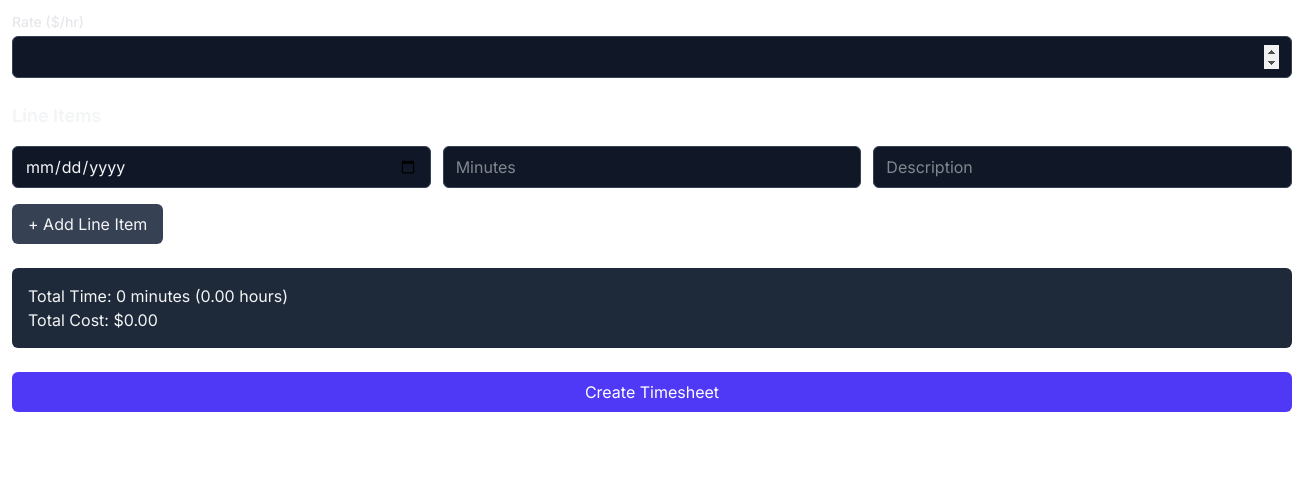
Test: TimesheetForm › updates totals after removing a line item
The width and height of the screenshot is (1304, 487).
// Enter rate
In the number field labelled "Rate ($/hr)": (652, 57) 12,36 -> 1292,78, type "100"
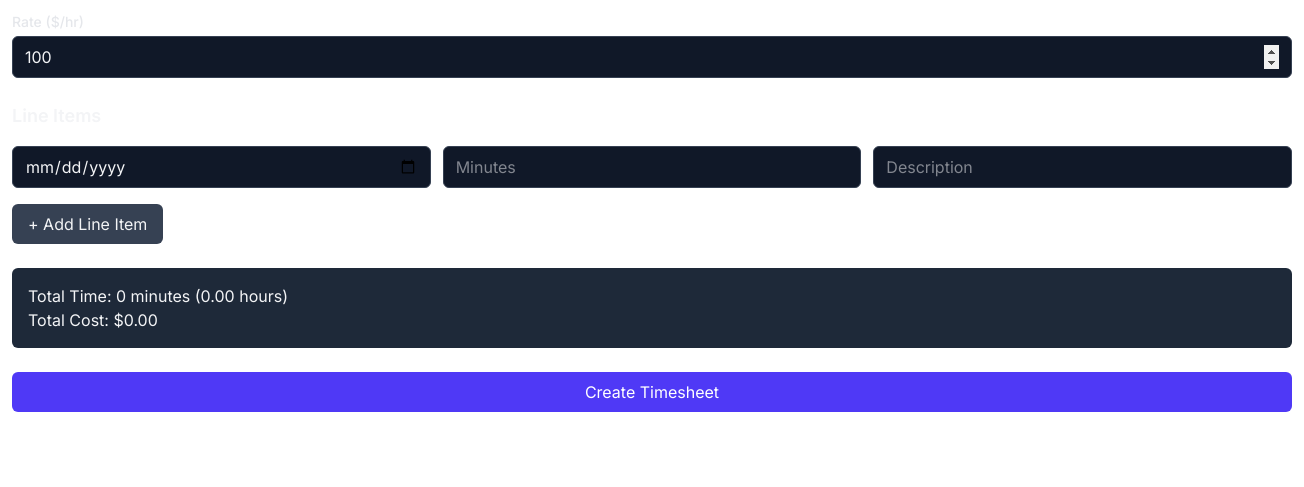
// First line item: 60 minutes
In the number field with placeholder "Minutes": (652, 167) 443,146 -> 861,188, type "60"
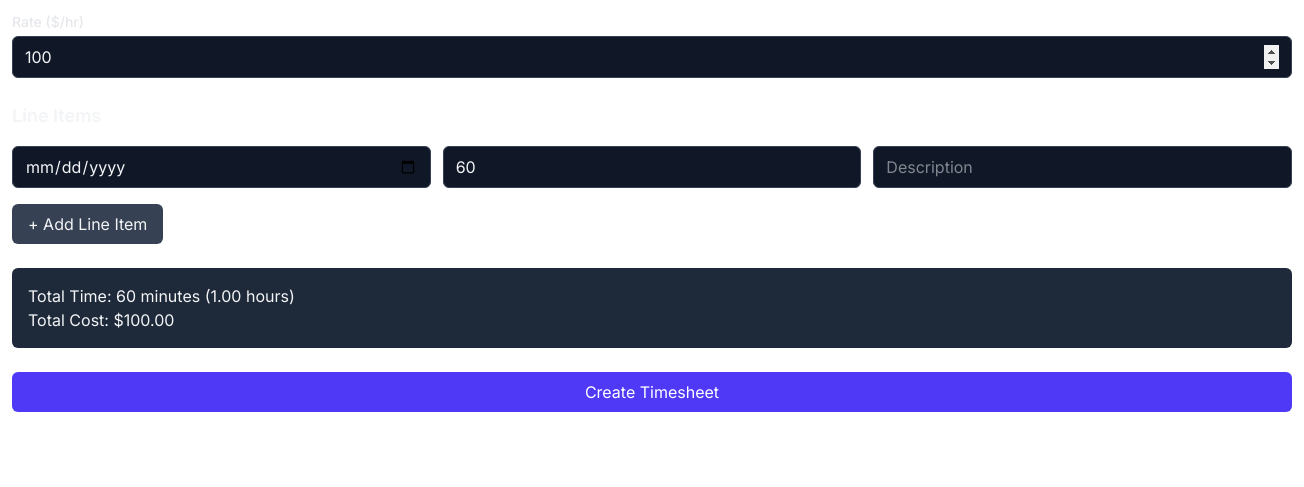
// Add another line item
Click the button "+ Add Line Item": (88, 224) 12,204 -> 163,244
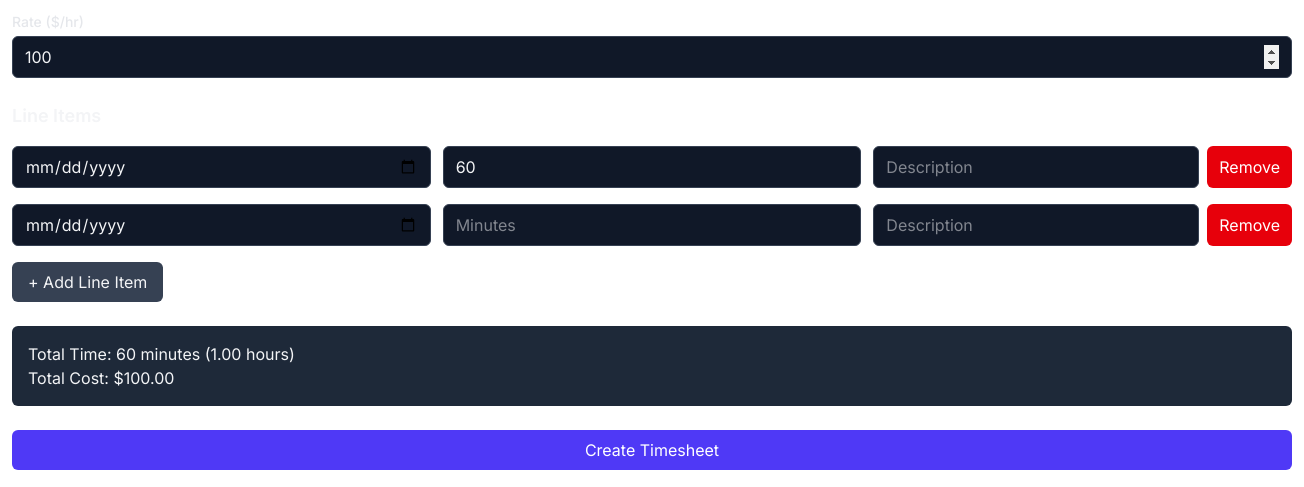
// Second line item: 120 minutes
In the number field with placeholder "Minutes": (652, 225) 443,204 -> 861,246, type "120"
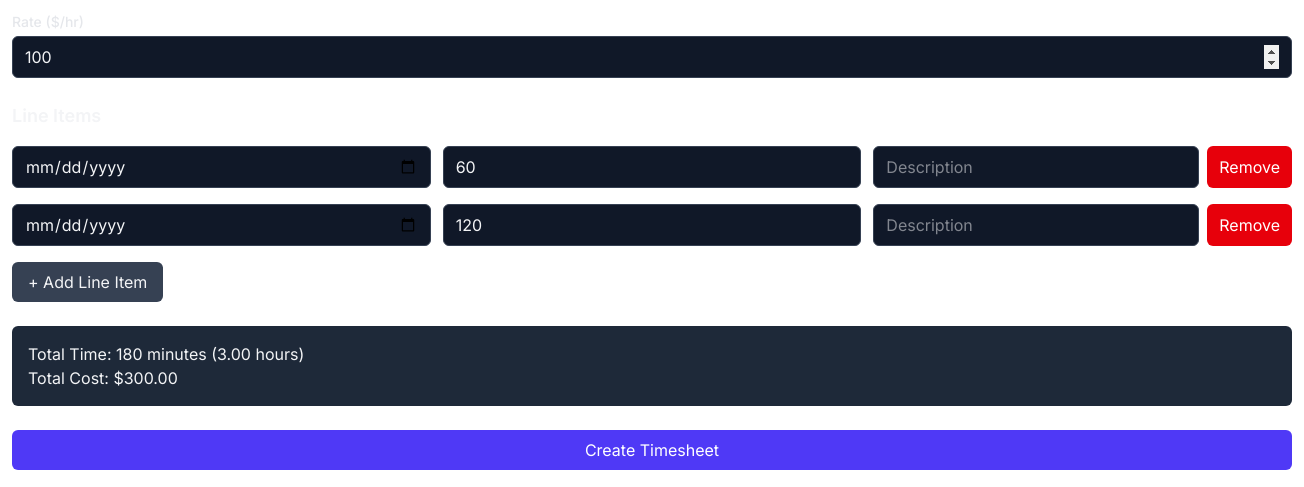
Expected: the text "Total Time: 180 minutes (3.00 hours)" is shown, 28,344 -> 304,364
Expected: the text "Total Cost: $300.00" is shown, 28,368 -> 178,388
// Remove the second line item
Click the 2nd button "Remove": (1250, 225) 1207,204 -> 1292,246
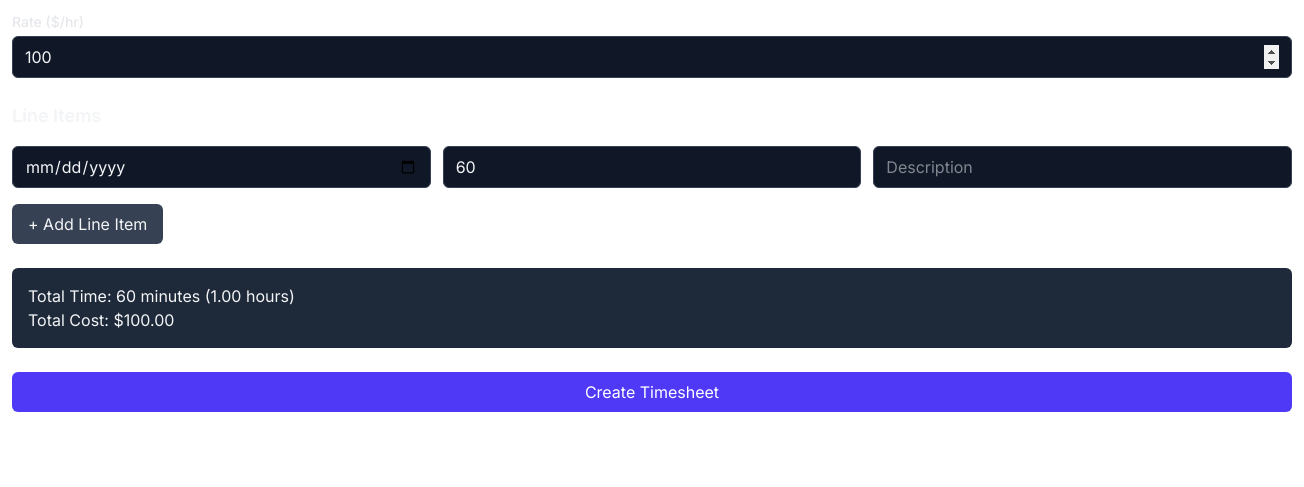
Expected: the text "Total Time: 60 minutes (1.00 hours)" is shown, 28,286 -> 295,306
Expected: the text "Total Cost: $100.00" is shown, 28,310 -> 174,330
